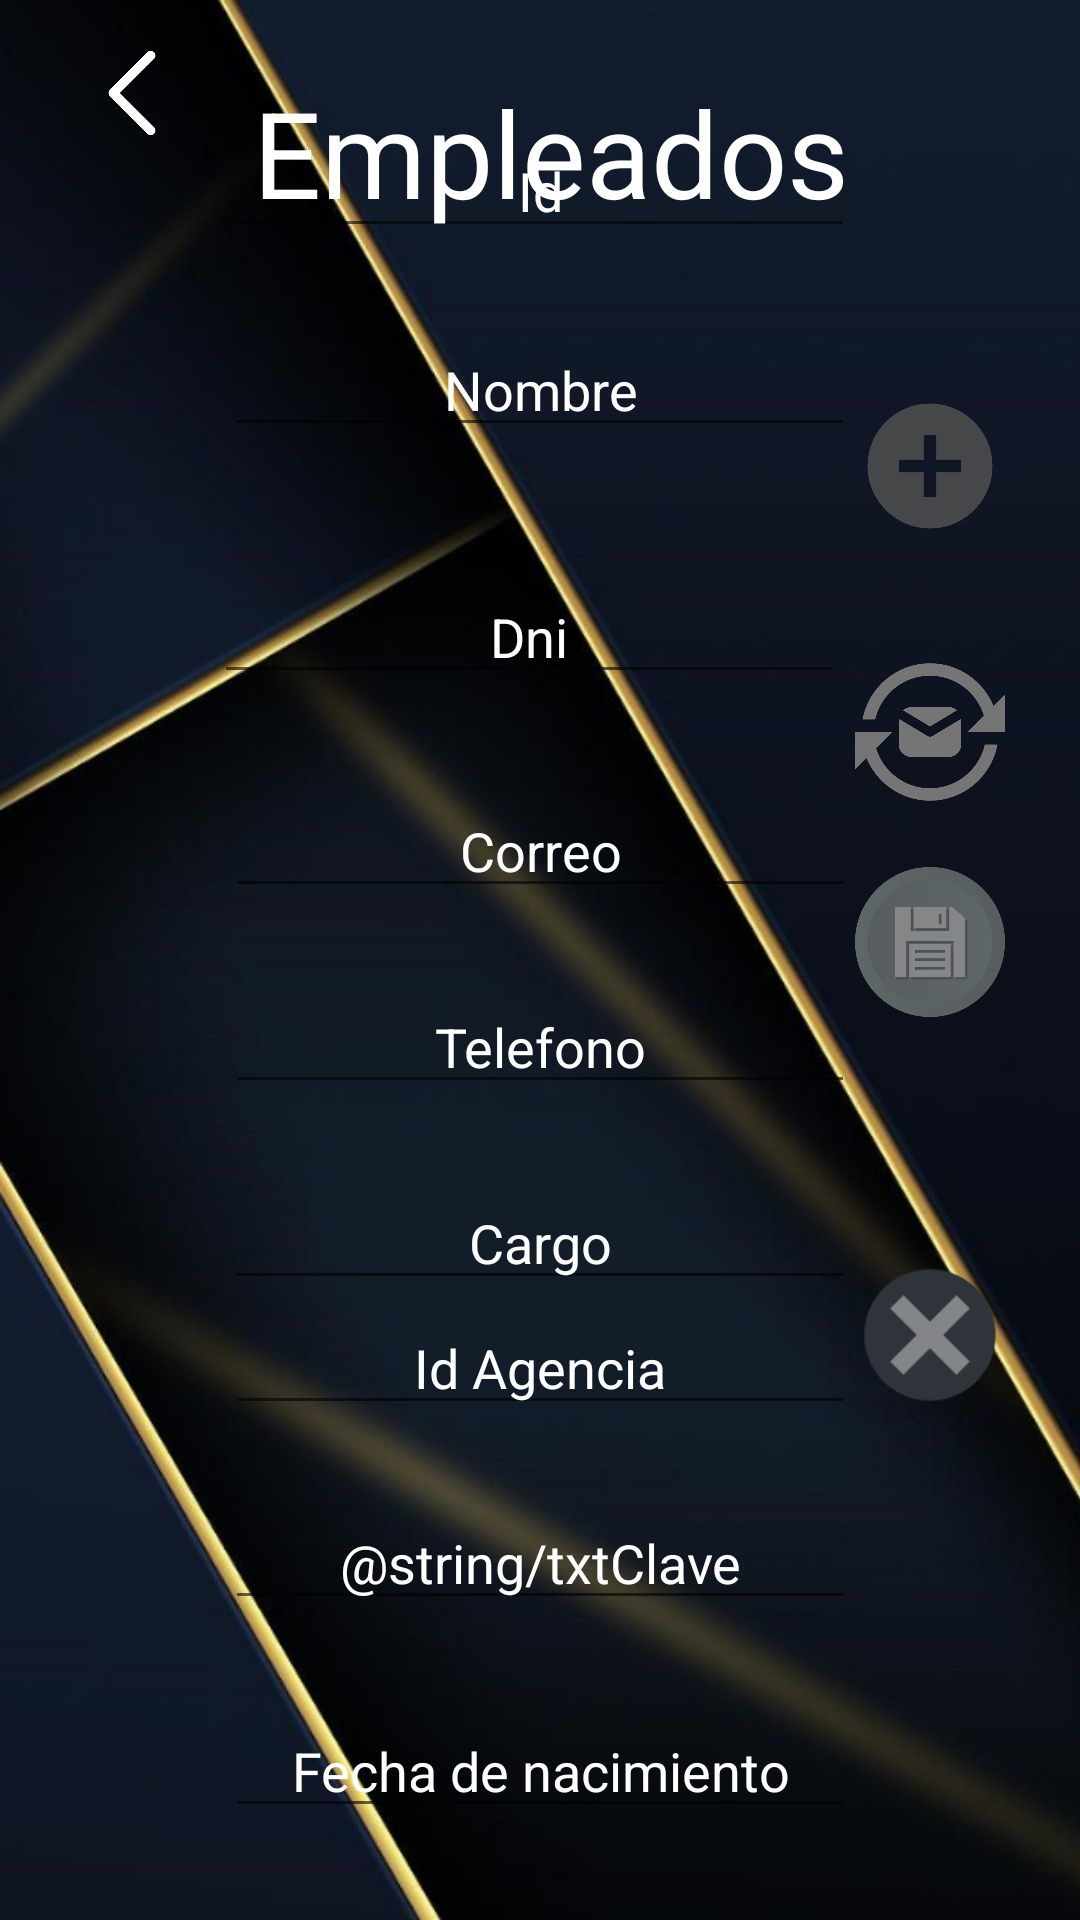

Screen size 1080 x 1920. Icon name, then its box in pixels as (x1,y1,x2,y2):
actualizar: (855,663,1005,801)
agregar: (868,404,992,528)
eliminar: (864,1260,1005,1401)
guardar: (855,867,1005,1017)
